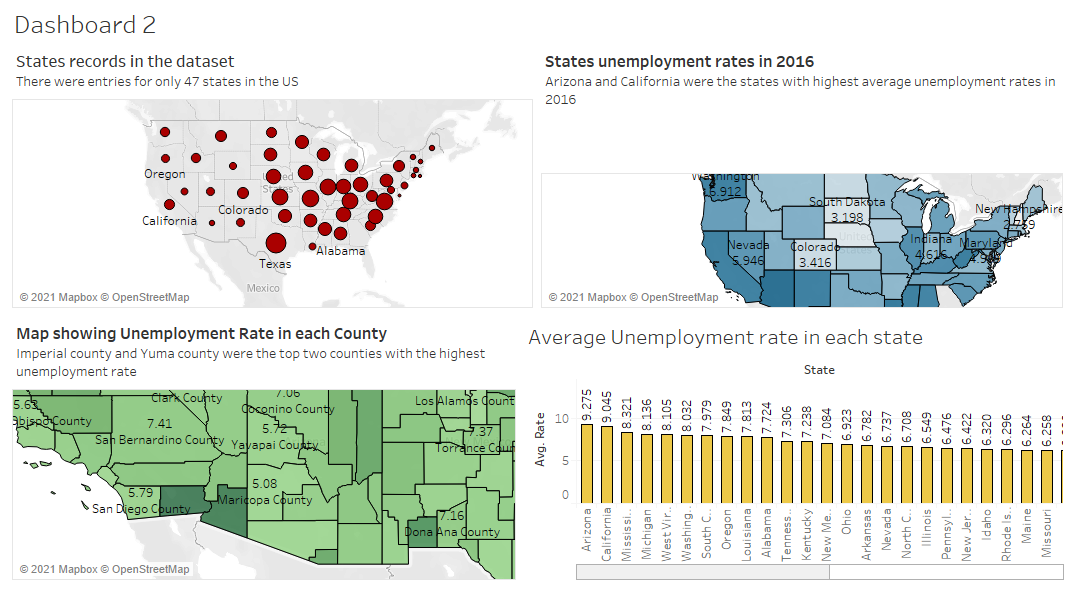

Layout of this report page (visuals, bound fields, positions):
{"tool":"tableau","page":{"name":"Dashboard 2","canvas":[1000,1000],"units":"permille","ordinal":1},"visuals":[{"type":"worksheet","box":[0,0,1000,1000]},{"type":"worksheet","param":"horz","box":[7.4,13.5,985.1,973]},{"type":"worksheet","param":"vert","box":[7.4,13.5,914.4,973]},{"type":"worksheet","box":[7.4,13.5,914.4,54.1]},{"type":"worksheet","param":"vert","box":[921.9,13.5,70.7,973]},{"type":"worksheet","title":"State unemployment rate  in 2016","mark":"Automatic","param":"[federated.0gz1tfi1u0p9u01bnhhzx0usu7t0].[avg:Rate:qk]","box":[921.9,13.5,70.7,109.8]},{"type":"worksheet","param":"horz","box":[7.4,67.6,914.4,918.9]},{"type":"worksheet","box":[7.4,67.6,914.4,918.9]},{"type":"worksheet","title":"State Counts","mark":"Automatic","box":[7.4,67.6,457.2,459.5]},{"type":"worksheet","title":"State unemployment rate  in 2016","mark":"Automatic","box":[464.6,67.6,457.2,459.5]},{"type":"worksheet","title":"Unemployment Rate per County ","mark":"Automatic","param":"[federated.0gz1tfi1u0p9u01bnhhzx0usu7t0].[avg:Rate:qk]","box":[921.9,123.3,70.7,116.5]},{"type":"worksheet","title":"Unemployment Rate per County ","mark":"Automatic","param":"[federated.0gz1tfi1u0p9u01bnhhzx0usu7t0].[none:County:nk]","box":[921.9,239.8,70.7,87.8]},{"type":"worksheet","title":"Unemployment Rate per County ","mark":"Automatic","box":[7.4,527,442.5,459.5]},{"type":"worksheet","title":"Average Unemployment rate in each state","mark":"Automatic","rows":["Rate"],"cols":["State"],"box":[450,527,471.9,459.5]}]}

Visuals, with their boxes on the dashboard's canvas, which has no fixed pixel size, in thousandths of its width and height (x1, y1, x2, y2). These are canvas units, not pixel positions in the 1075x592 screenshot, which may show the page scaled, cropped or inside an application window:
worksheet: <bbox>0, 0, 1000, 1000</bbox>
worksheet: <bbox>7, 14, 992, 986</bbox>
worksheet: <bbox>7, 14, 922, 986</bbox>
worksheet: <bbox>7, 14, 922, 68</bbox>
worksheet: <bbox>922, 14, 993, 986</bbox>
"State unemployment rate  in 2016" worksheet: <bbox>922, 14, 993, 123</bbox>
worksheet: <bbox>7, 68, 922, 986</bbox>
worksheet: <bbox>7, 68, 922, 986</bbox>
"State Counts" worksheet: <bbox>7, 68, 465, 527</bbox>
"State unemployment rate  in 2016" worksheet: <bbox>465, 68, 922, 527</bbox>
"Unemployment Rate per County " worksheet: <bbox>922, 123, 993, 240</bbox>
"Unemployment Rate per County " worksheet: <bbox>922, 240, 993, 328</bbox>
"Unemployment Rate per County " worksheet: <bbox>7, 527, 450, 986</bbox>
"Average Unemployment rate in each state" worksheet: <bbox>450, 527, 922, 986</bbox>
